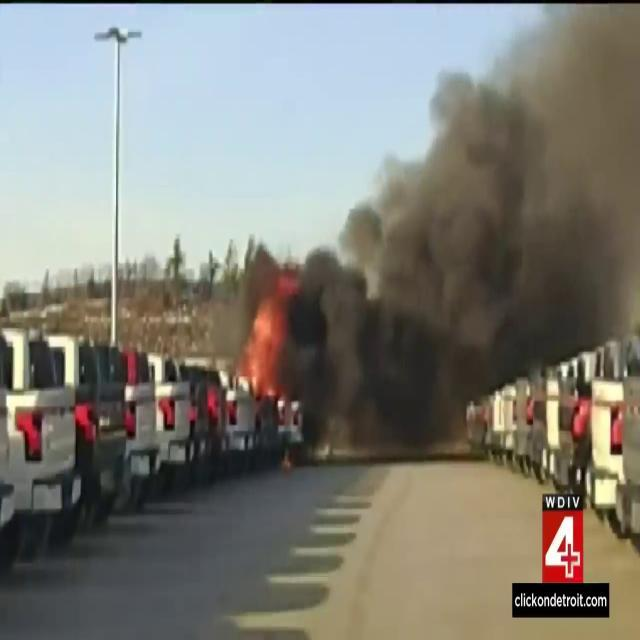Fire: (232, 300, 291, 411)
Smoke: (290, 4, 640, 456)
